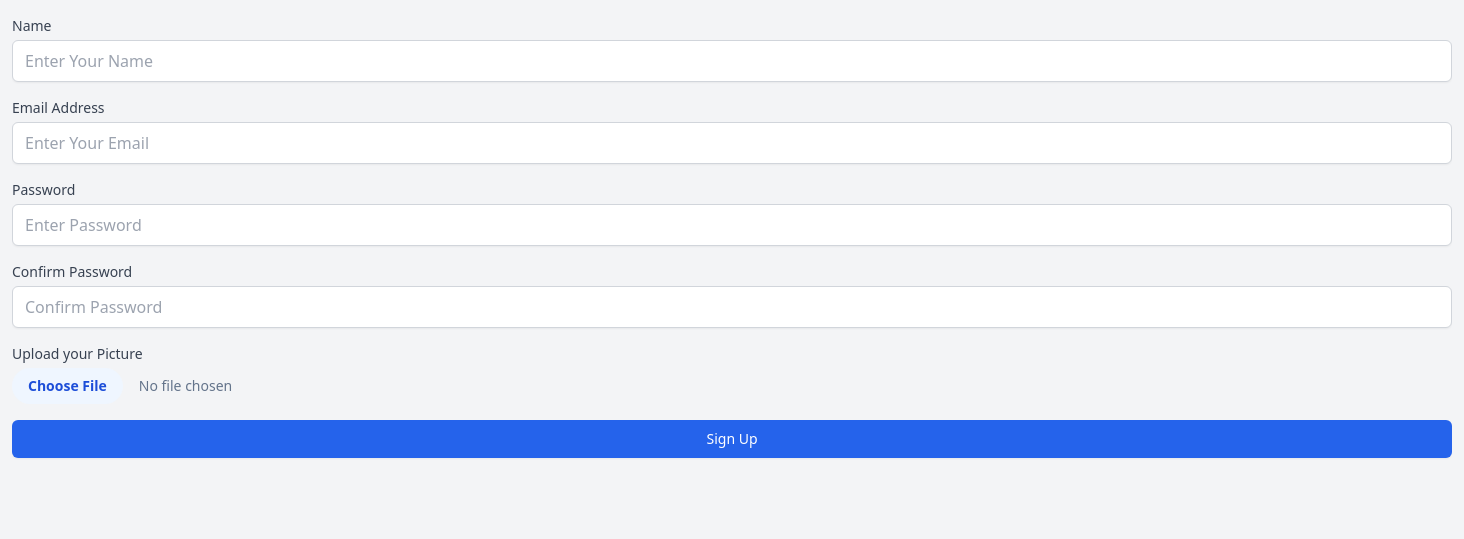
Signup Component › shows an error if password is too short
Type "Test User" into the field with placeholder "Enter Your Name".
click(732, 61); type("Test User")  # box [12, 40, 1452, 82]
Type "test@example.com" into the field with placeholder "Enter Your Email".
click(732, 143); type("test@example.com")  # box [12, 122, 1452, 164]
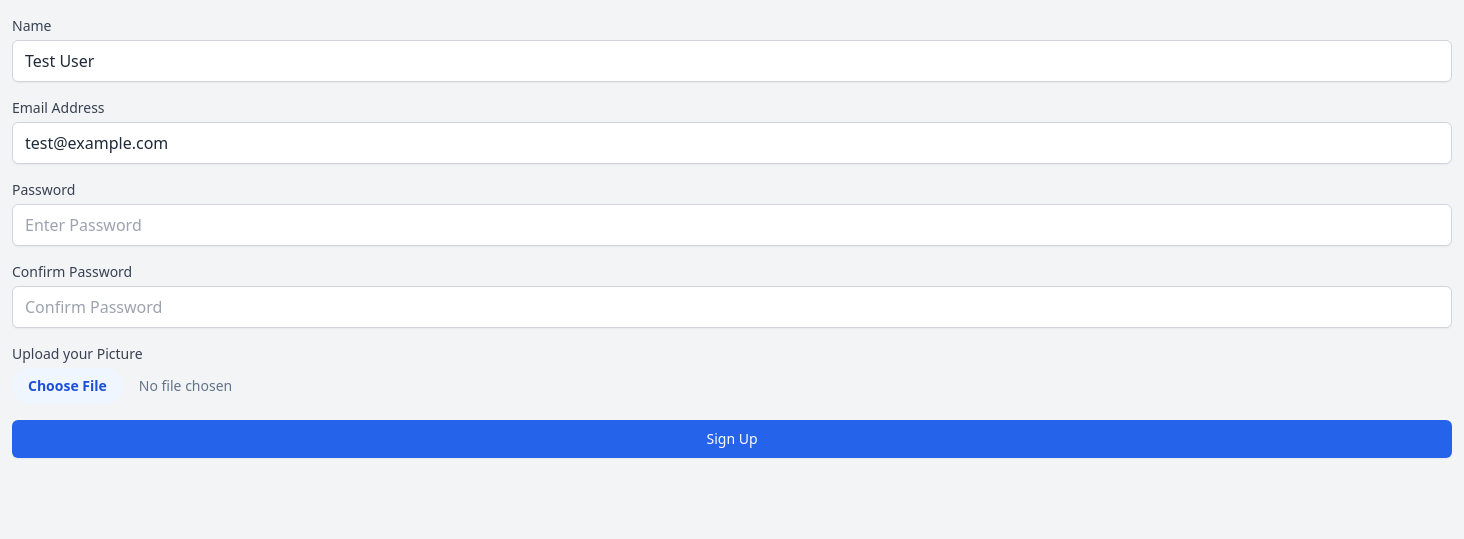
Type "password123" into the password field with placeholder "Enter Password".
click(732, 225); type("password123")  # box [12, 204, 1452, 246]
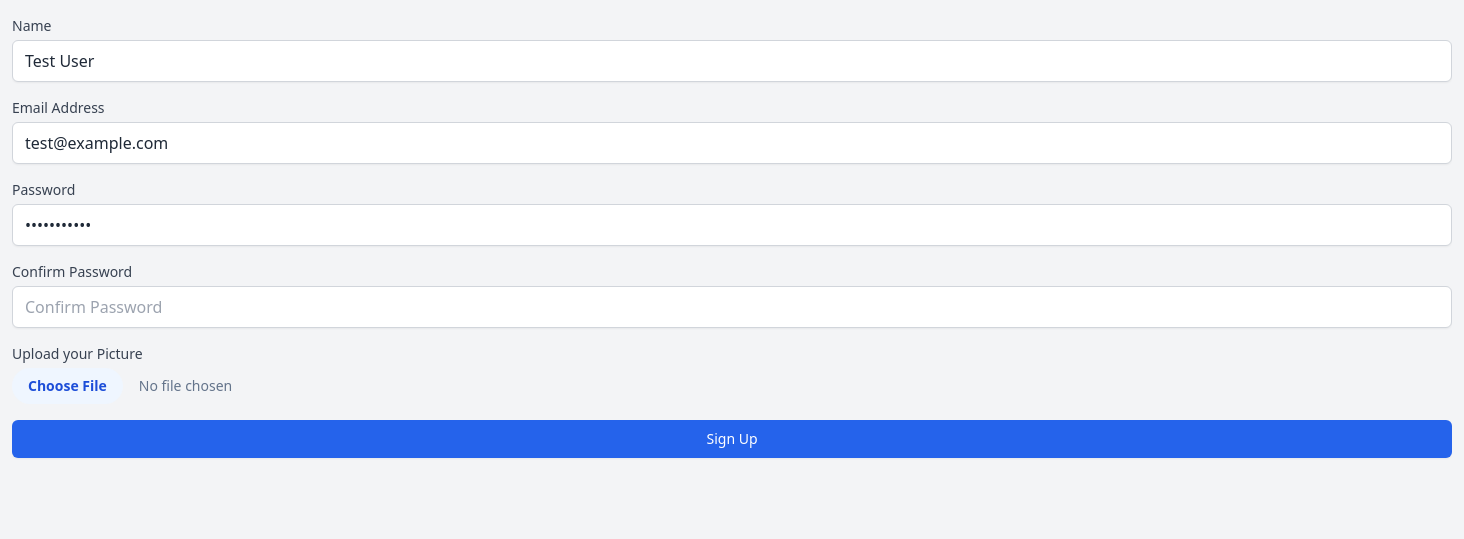
Type "password123" into the password field with placeholder "Confirm Password".
click(732, 307); type("password123")  # box [12, 286, 1452, 328]
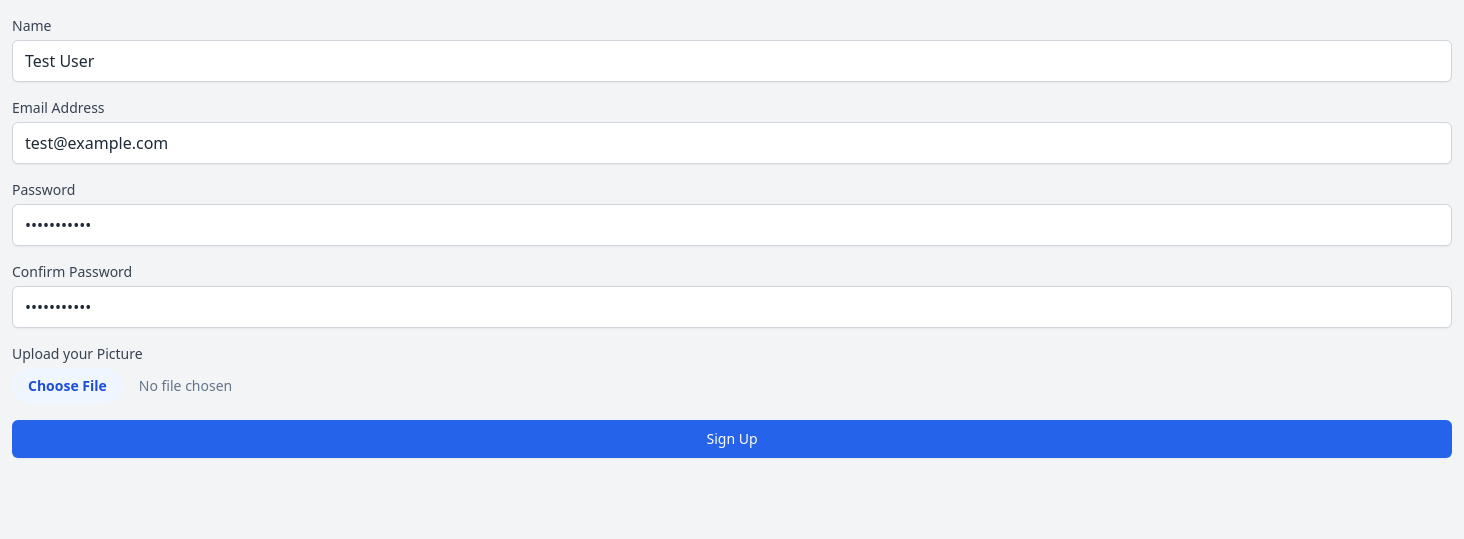
Type "123" into the 1st password field with placeholder "Enter Password".
click(732, 225); type("123")  # box [12, 204, 1452, 246]
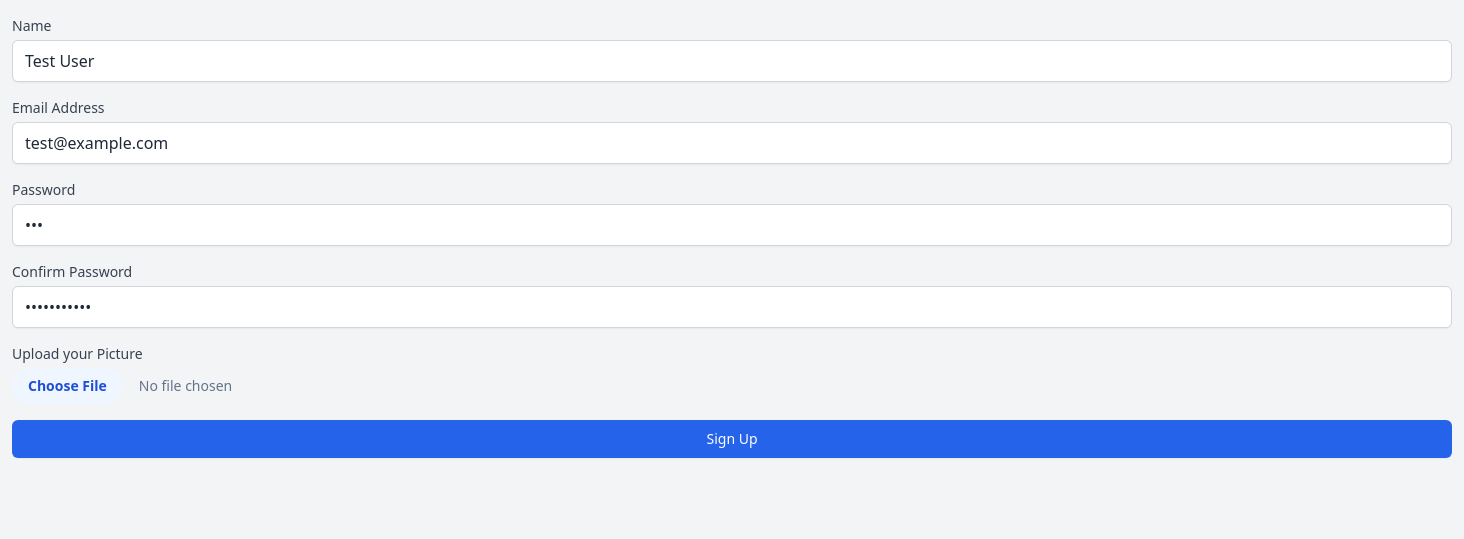
Type "123" into the password field with placeholder "Confirm Password" below "Confirm Password".
click(732, 307); type("123")  # box [12, 286, 1452, 328]
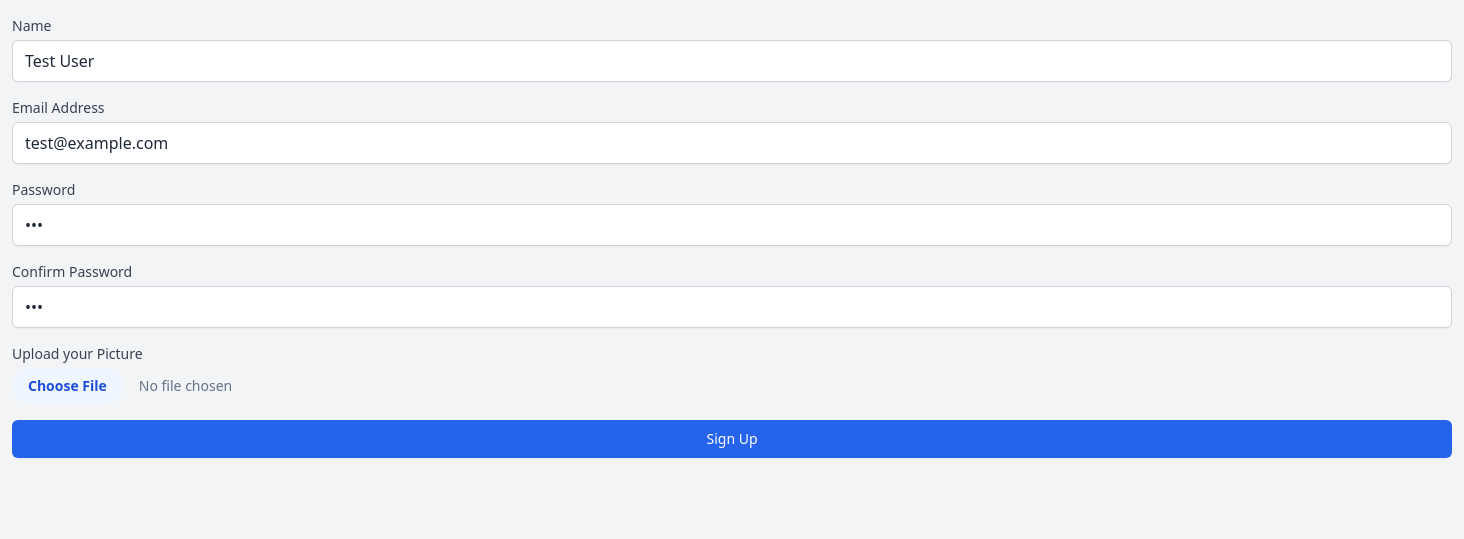
Submit the form
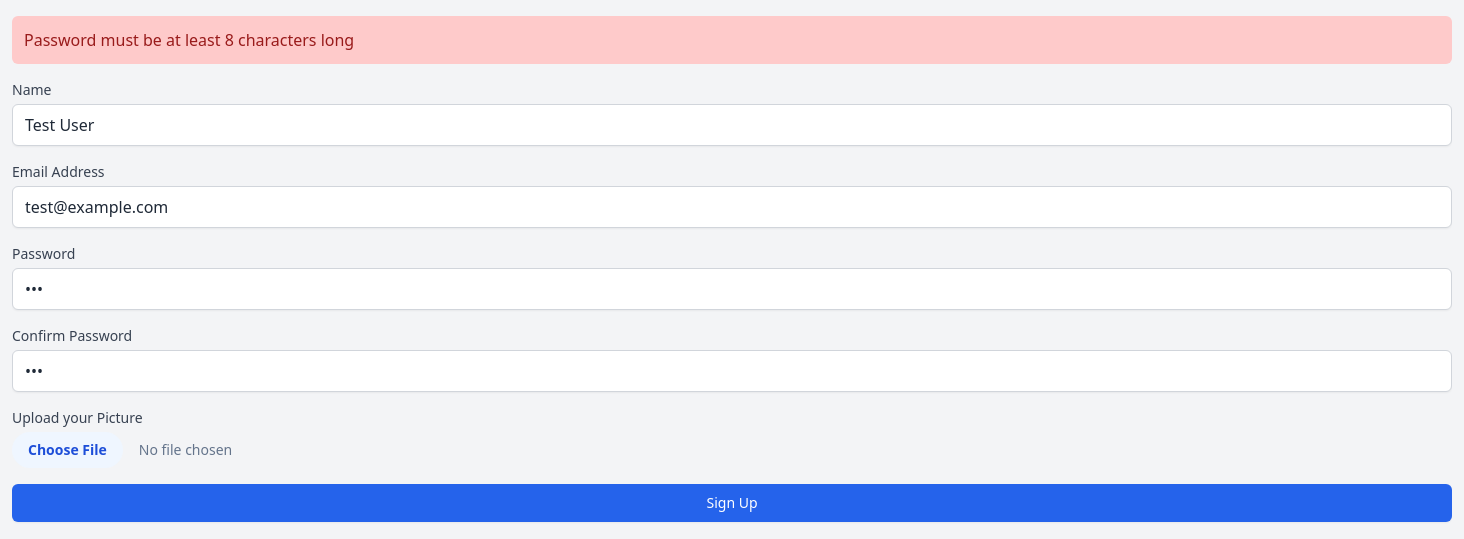
Expected: the text "Password must be at least 8 characters long" is shown, [12, 16, 1452, 64]
